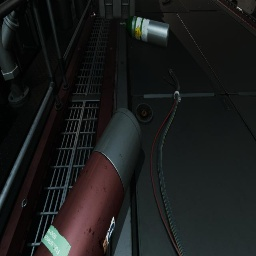0: (120, 16, 170, 48), (72, 0, 75, 9), (87, 0, 88, 1)
NitrogenTank ,: (33, 108, 143, 256), (54, 0, 73, 31), (73, 0, 89, 20)
